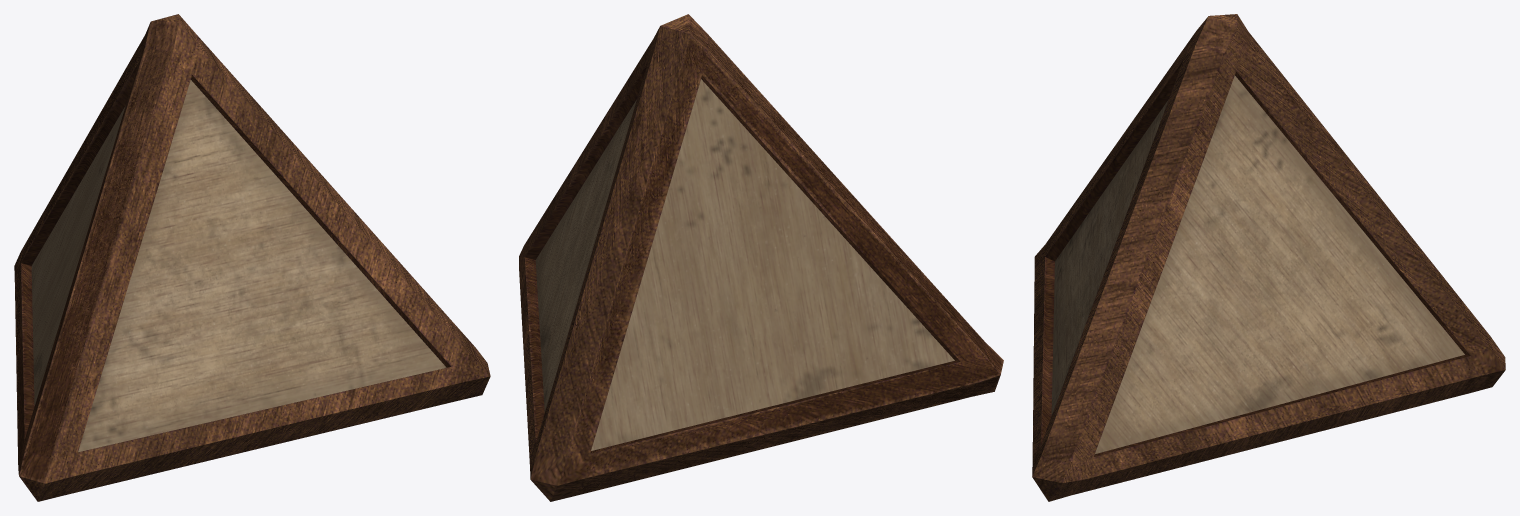
3 views of the same model, side by side, from view 1: azimuth 30°, elevation 25°; view 2: azimuth 150°, elevation 25°; view 3: azimuth 270°, elevation 25° (orthographic). The views are drawn at different scales.
Parts seen in each view (by area): view 1: polySurface5; view 2: polySurface5; view 3: polySurface5.
Part boxes in pixels (x1=…): polySurface5: x1=14, y1=14, x2=490, y2=501; polySurface5: x1=519, y1=14, x2=1003, y2=501; polySurface5: x1=1032, y1=14, x2=1505, y2=501.
Bounding box in the file's own units: 0.0306 × 0.0231 × 0.0264.
Materials: 1 (1 with a texture image).
